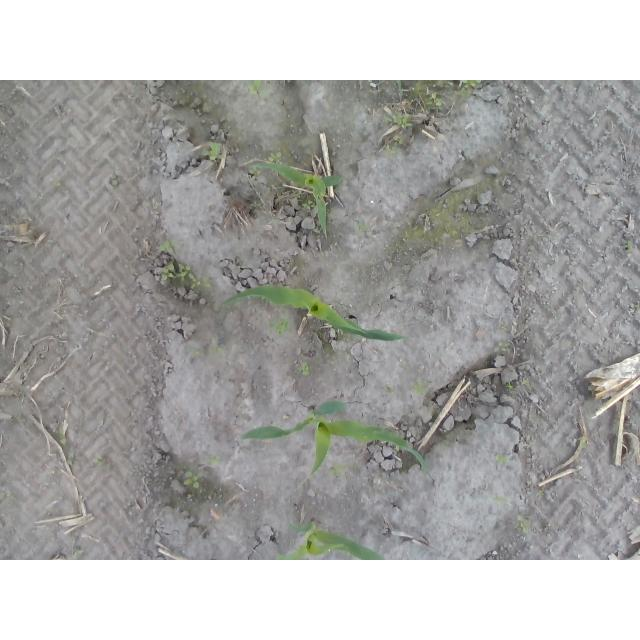Maize: (239, 400, 429, 478), (222, 284, 406, 343), (253, 161, 343, 239), (273, 517, 387, 560)
Weeds: (159, 240, 214, 289), (384, 113, 414, 154), (252, 154, 284, 175), (292, 189, 318, 212), (270, 312, 292, 336), (200, 141, 222, 159), (507, 378, 533, 392), (251, 82, 270, 99), (184, 470, 204, 486), (413, 377, 429, 395), (427, 93, 445, 109), (328, 465, 347, 480), (518, 515, 532, 534), (494, 341, 512, 355), (58, 429, 71, 448), (90, 457, 107, 471), (299, 362, 313, 377), (461, 80, 483, 89), (577, 436, 591, 450), (111, 171, 122, 188), (625, 239, 635, 253), (70, 551, 85, 560), (356, 222, 368, 233), (210, 455, 222, 466), (494, 494, 510, 502), (497, 454, 506, 463), (385, 386, 392, 395), (57, 182, 63, 187), (538, 490, 543, 496), (254, 202, 258, 207)
